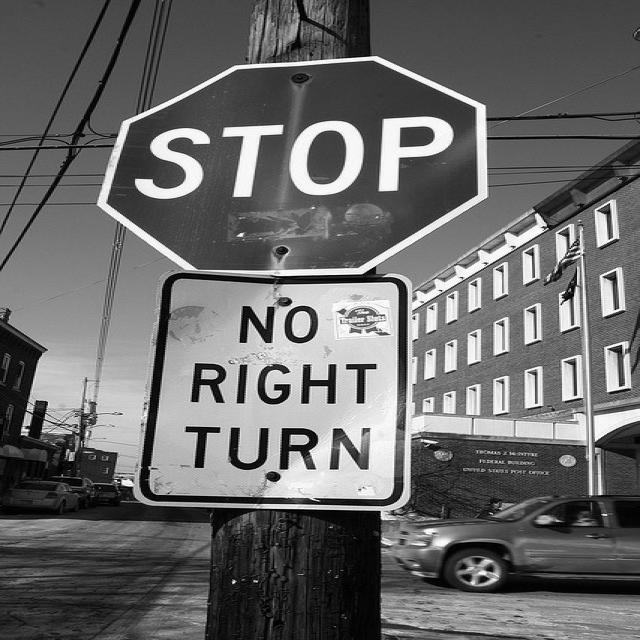car: (390, 493, 638, 594), (0, 478, 79, 513), (84, 481, 120, 507), (49, 475, 92, 492)
pole: (193, 5, 399, 638)
